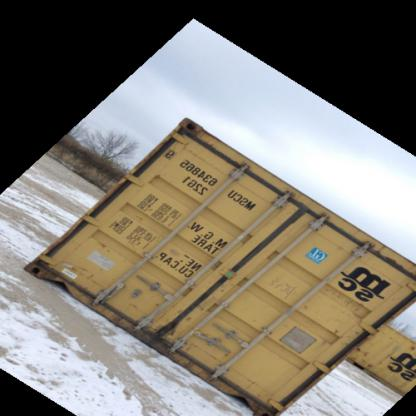Damage: (28, 262, 102, 294), (152, 337, 206, 372), (143, 308, 194, 341), (91, 300, 148, 328), (180, 114, 220, 148)
